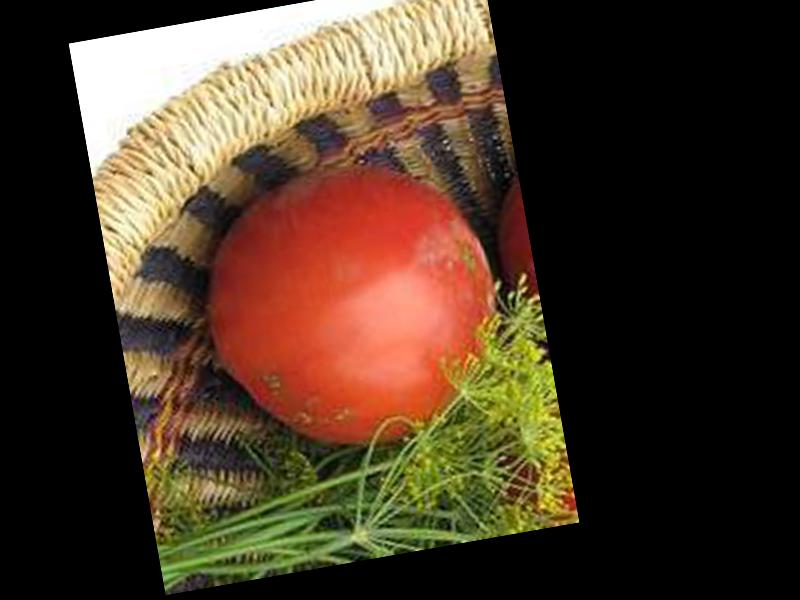Tomato: (190, 144, 518, 470)
